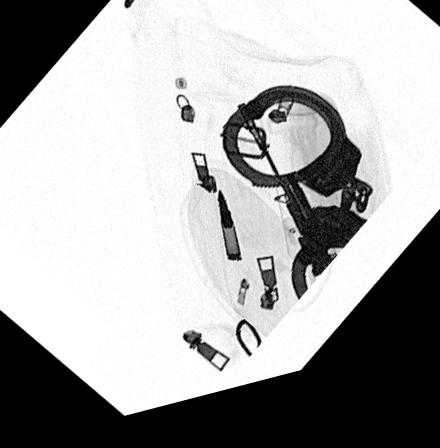Bullet: (218, 200, 241, 273)
Gun: (236, 113, 328, 290)
HandCuffs: (217, 98, 374, 315)
